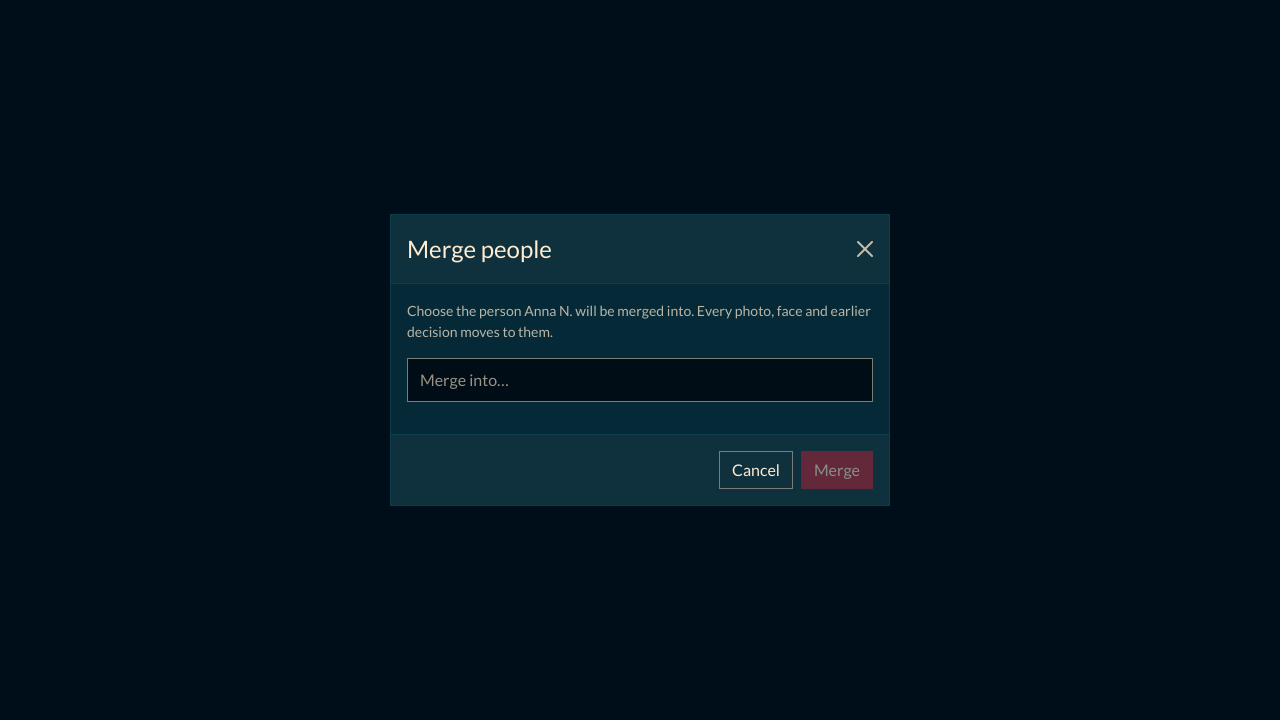
MergeSubjectModal › goes back to the pick, so a wrong keeper is one click from being changed
The image size is (1280, 720).
Type "Ann" into the dropdown labelled "Merge into…".
click(640, 380); type("Ann")  # box [407, 358, 873, 402]
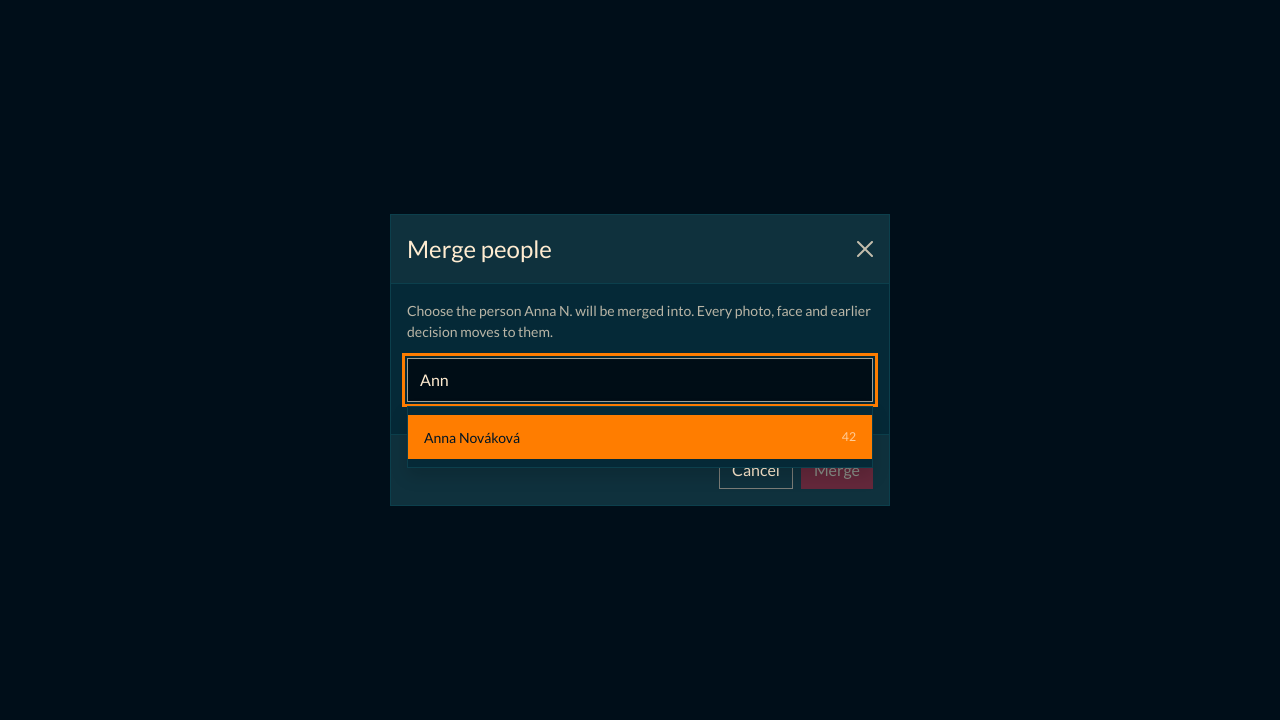
Click the option "Anna Nováková 42".
click(472, 437)  # box [408, 415, 872, 459]
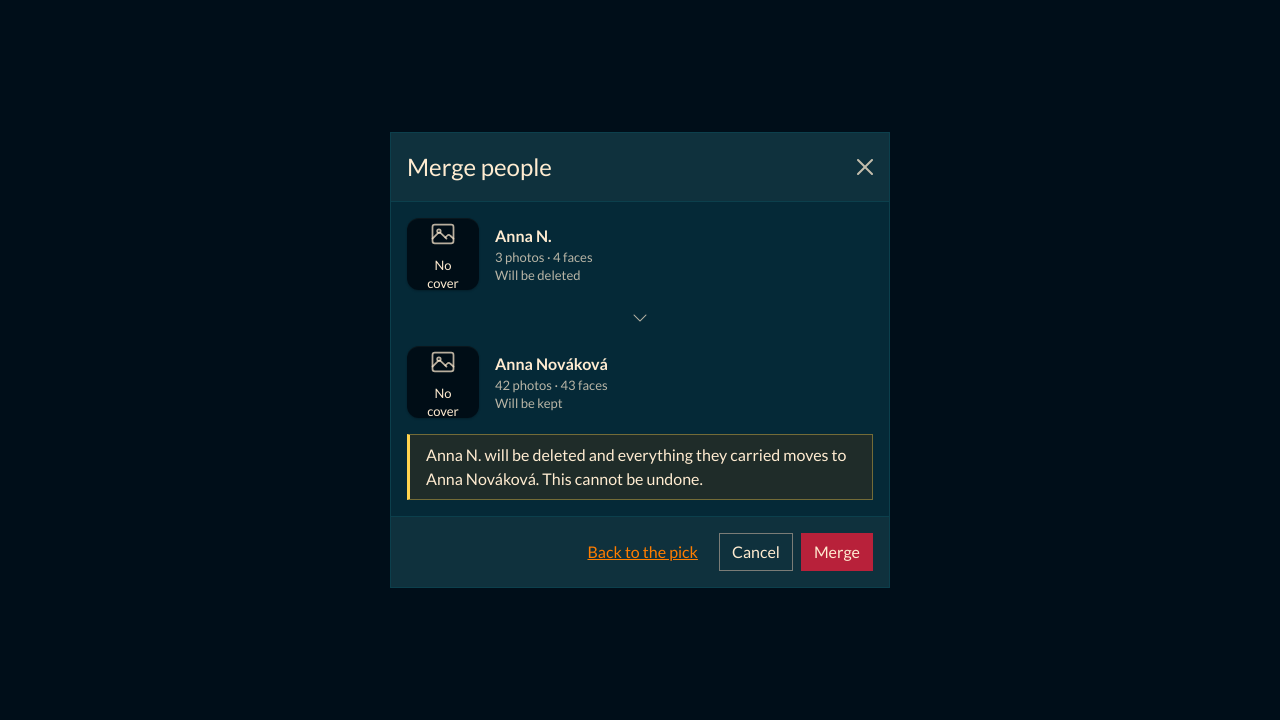
Click the button "Back to the pick".
click(643, 552)  # box [574, 533, 711, 571]
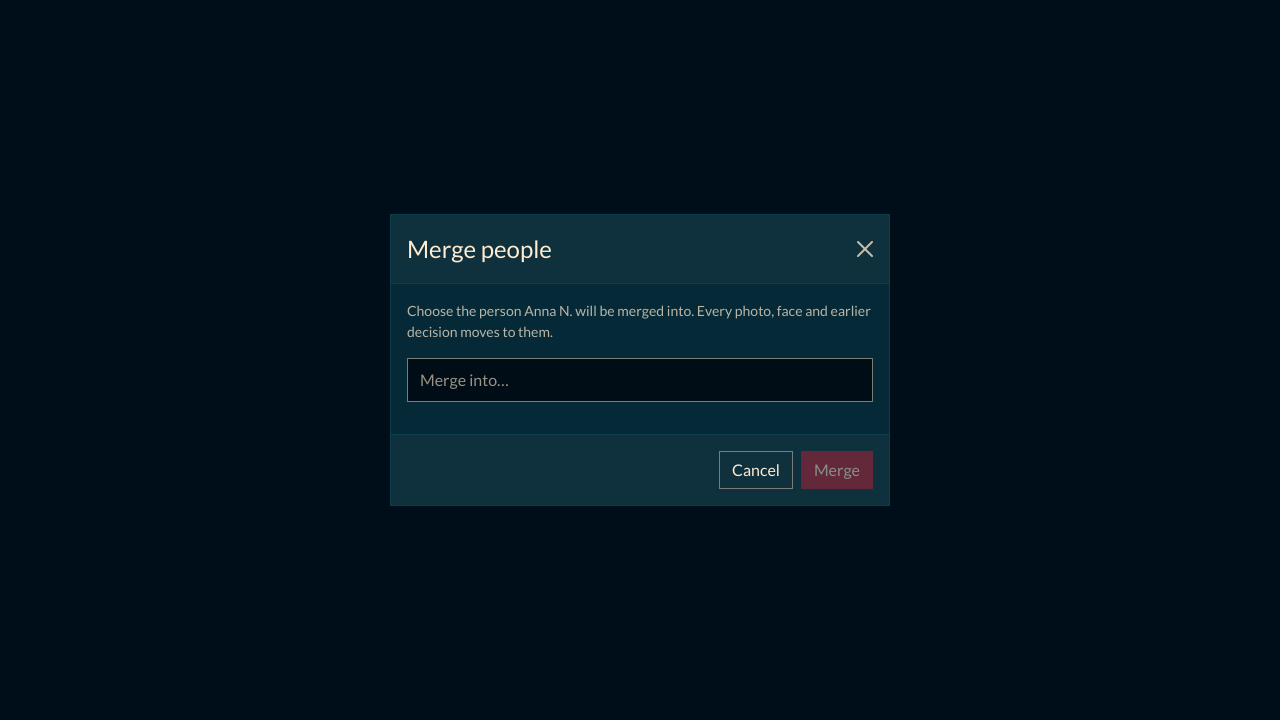
Now the dropdown labelled "Merge into…" is shown, box [407, 358, 873, 402]
Now the text "cannot be undone" is gone
